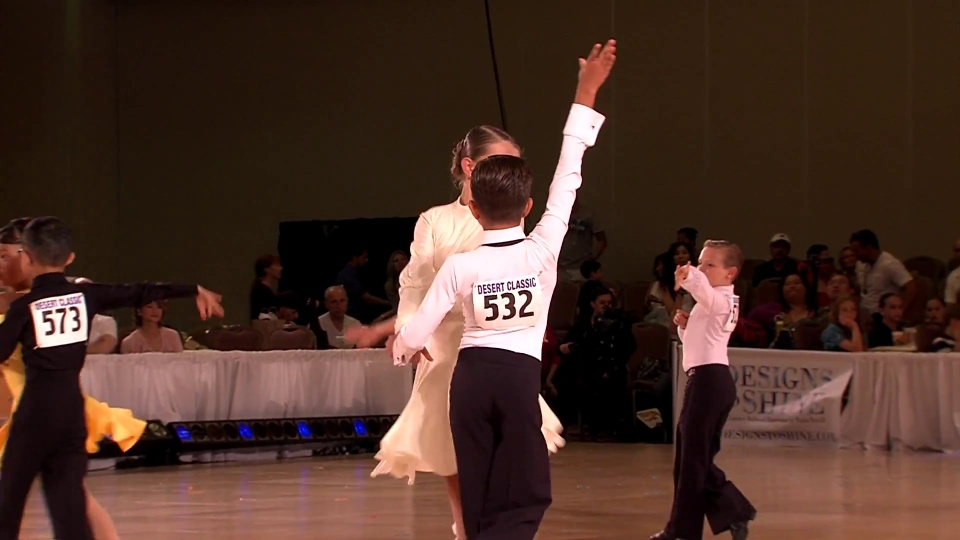person: (390, 58, 615, 539), (4, 215, 165, 533), (649, 233, 756, 533)
